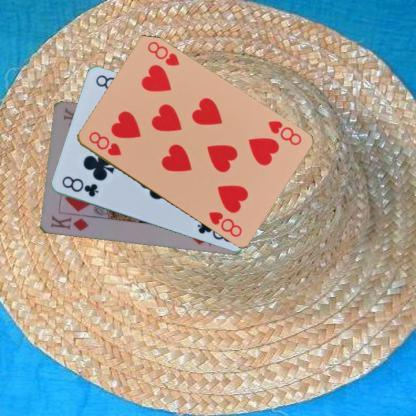8c: (59, 174, 100, 198)
8h: (265, 118, 303, 147), (86, 128, 122, 158)
Kd: (48, 213, 90, 232)
